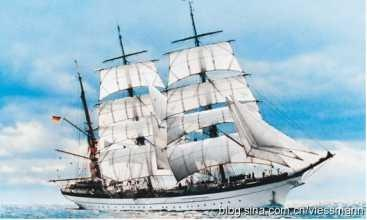fanchuan: (51, 15, 340, 206)
